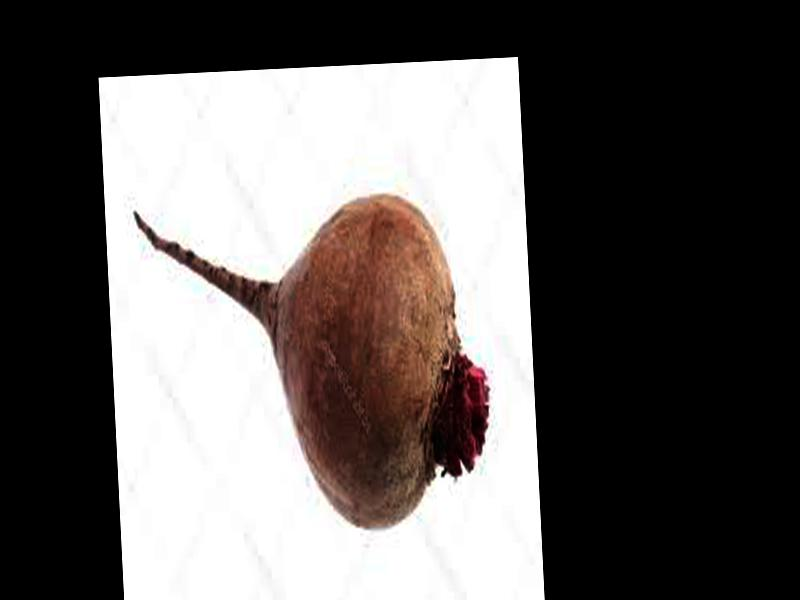Beet: (133, 189, 493, 546)
